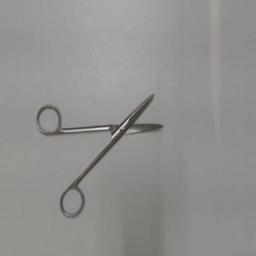Curved Mayo Scissors: (33, 90, 169, 222)
